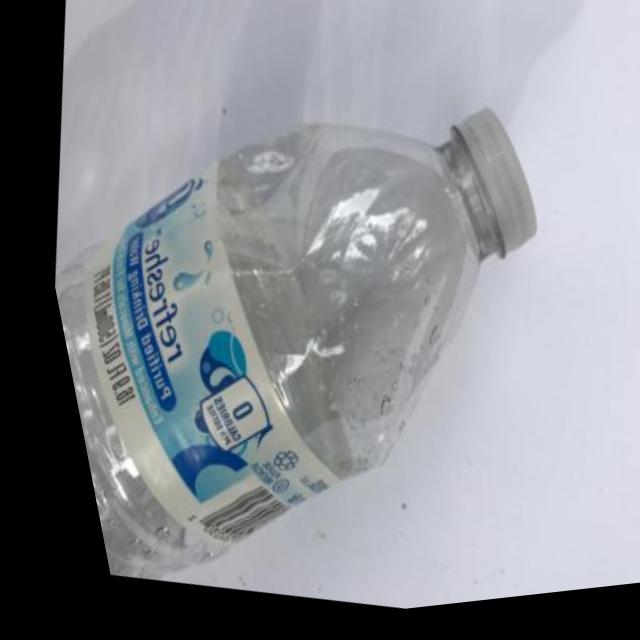plastic: (4, 0, 632, 640)
